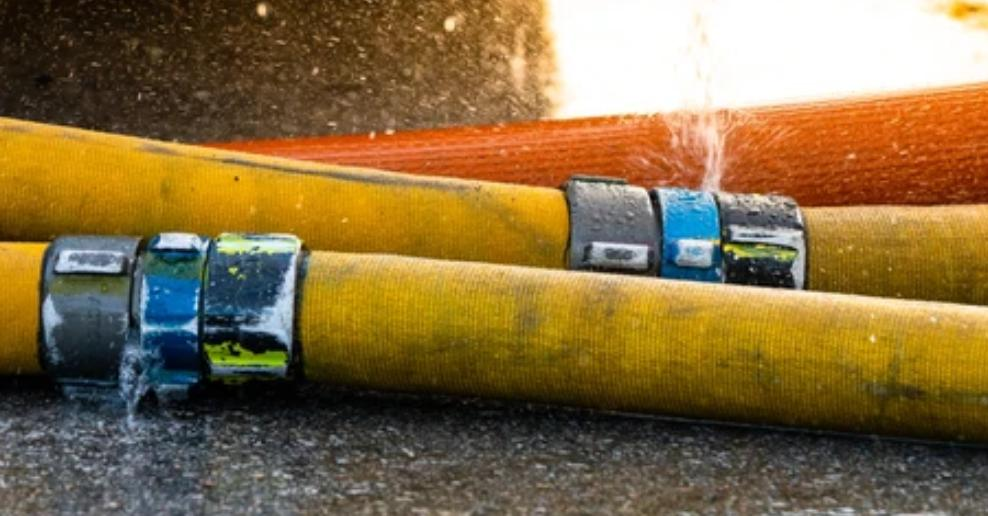pipe burst: (666, 20, 735, 203)
water accumulation: (1, 379, 988, 516)
